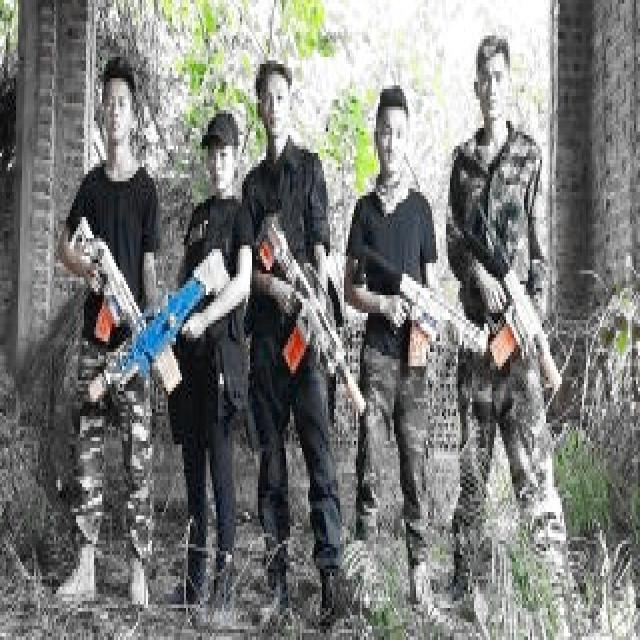Nerf gun: (254, 204, 370, 414), (75, 247, 233, 393), (68, 210, 180, 388), (463, 187, 557, 382), (385, 263, 487, 363)
